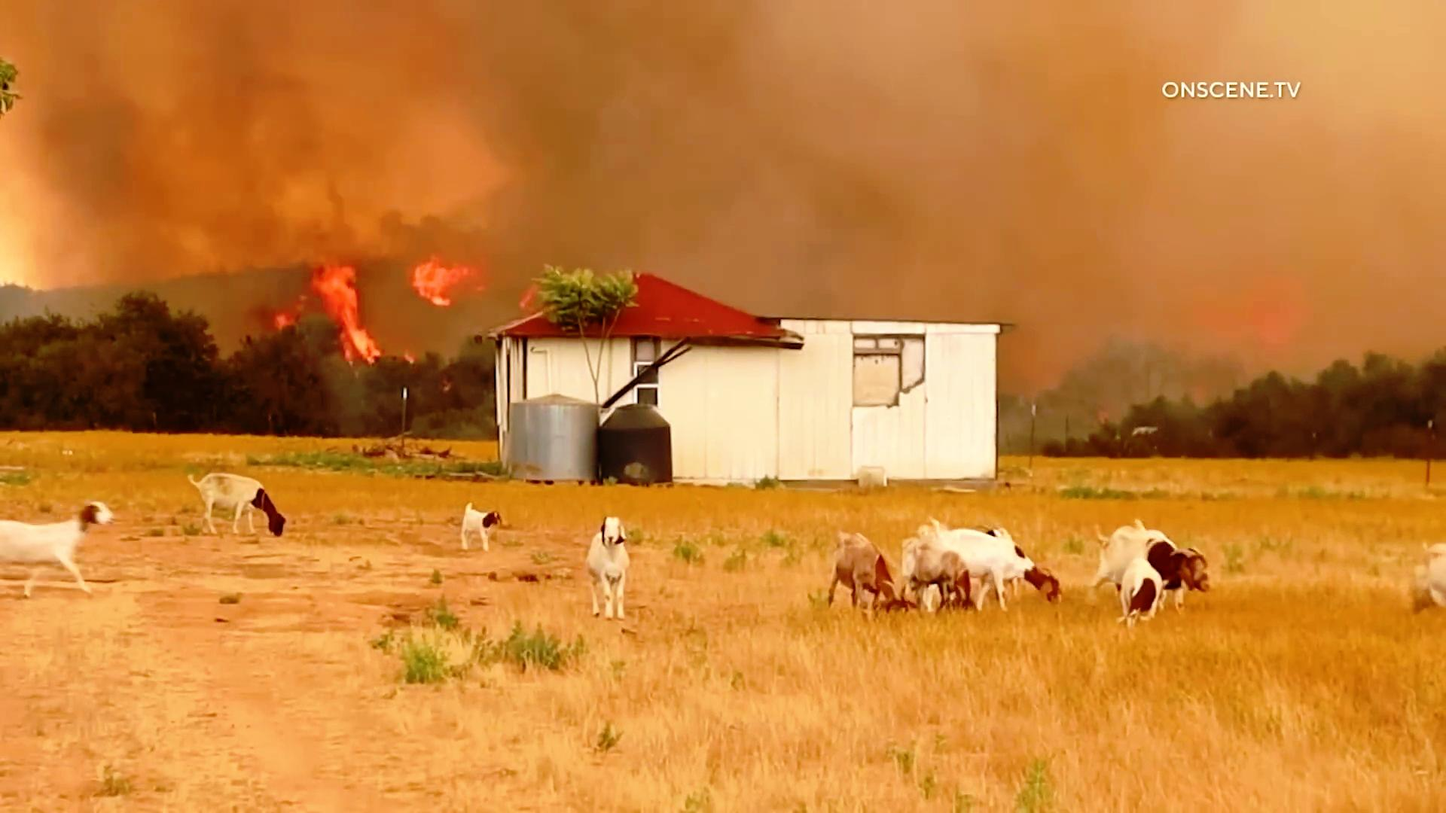fire: (268, 249, 377, 365), (409, 236, 493, 321)
smoke: (172, 15, 766, 231)
